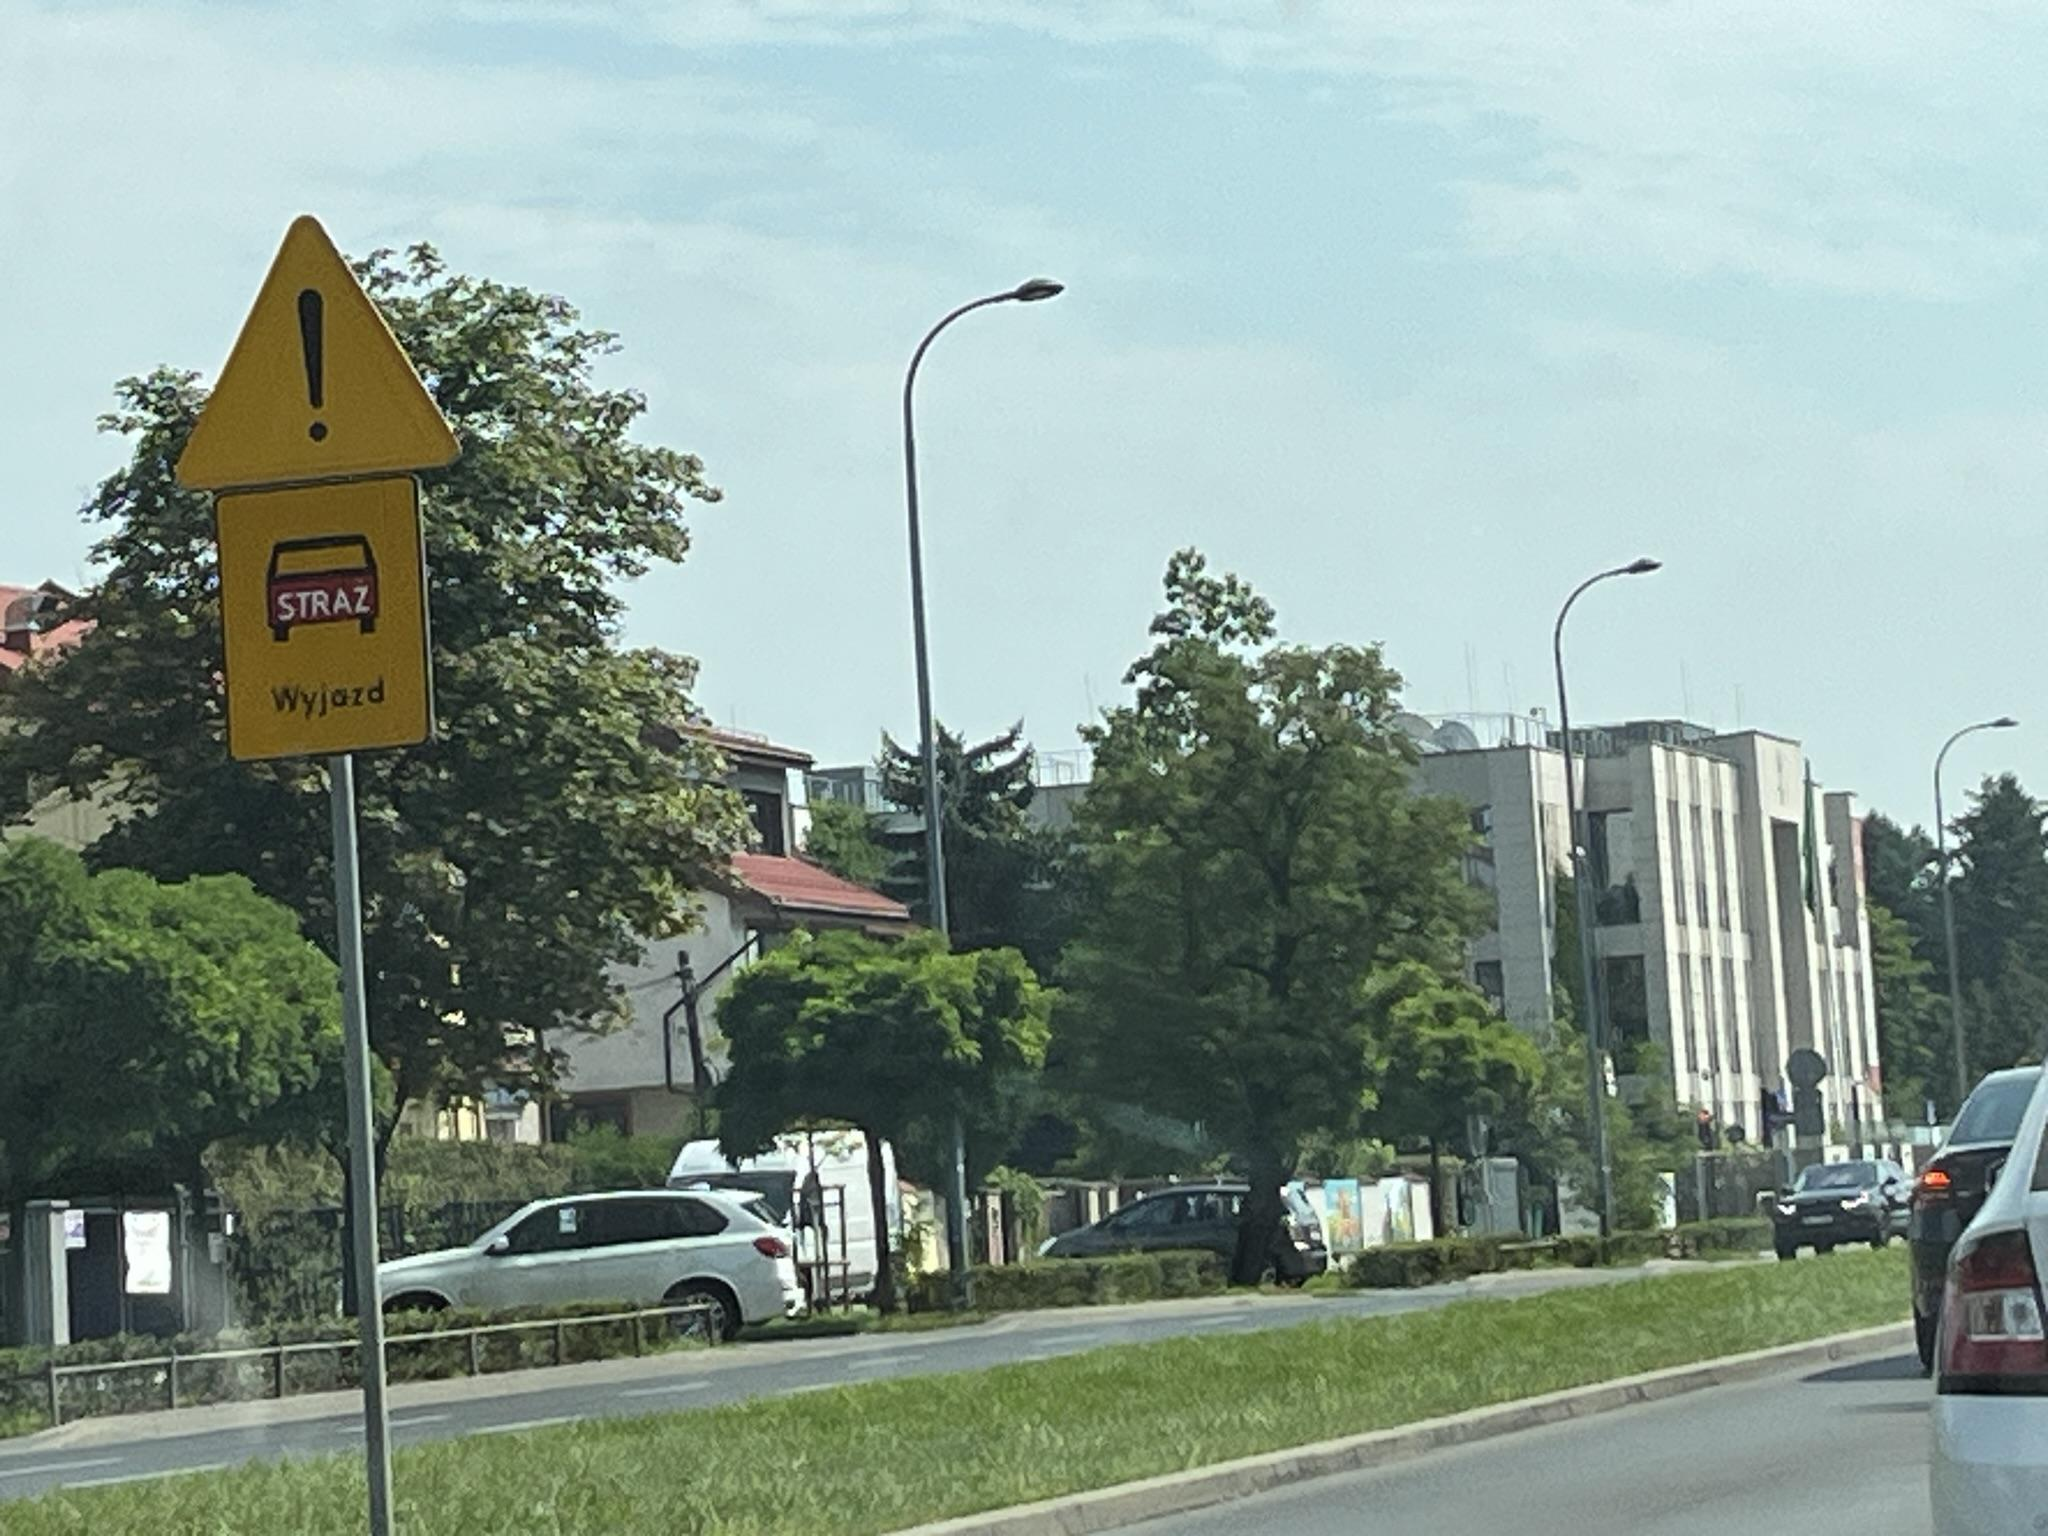warning: (173, 208, 461, 487)
